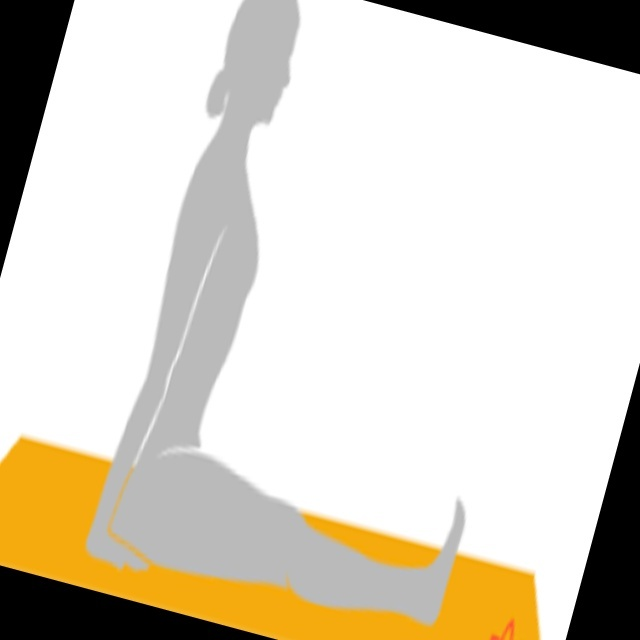Staff_Pose: (86, 6, 468, 625)
